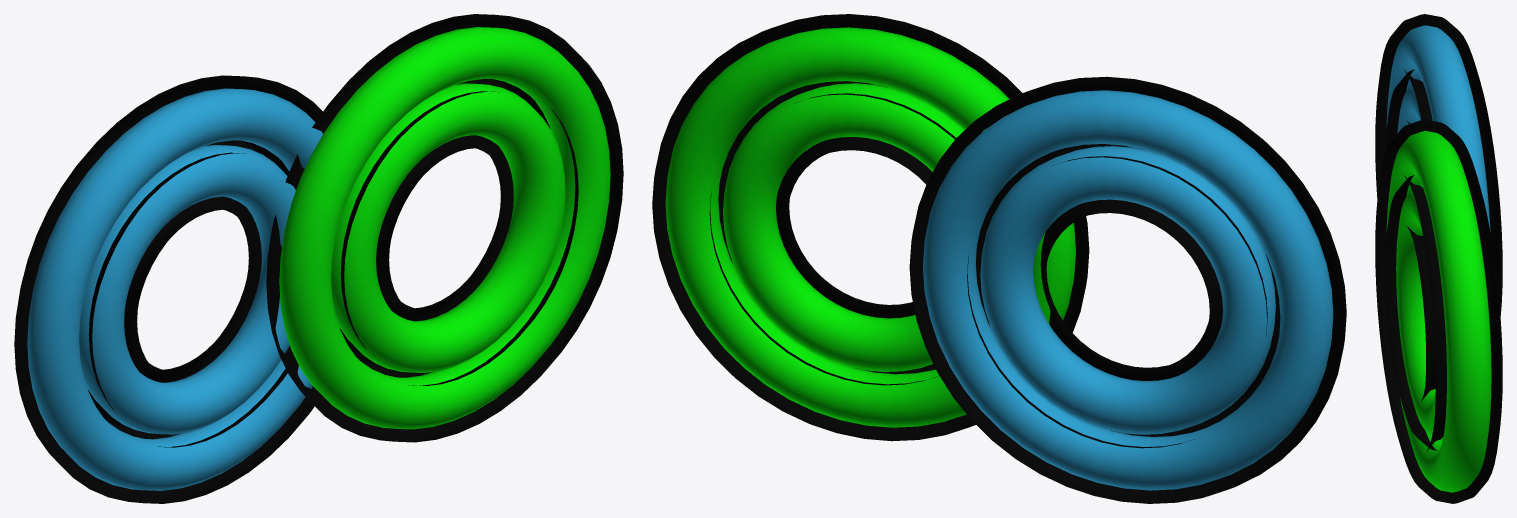
File: double_step_tutorial_02.glb
3 views of the same model, side by side, from view 1: azimuth 30°, elevation 25°; view 2: azimuth 150°, elevation 25°; view 3: azimuth 270°, elevation 25° (orthographic). The views are drawn at different scales.
Parts seen in each view (by area): view 1: Torus.445, Torus.441, Torus.446, Torus.442; view 2: Torus.441, Torus.445, Torus.442, Torus.446; view 3: Torus.445, Torus.441, Torus.446, Torus.442.
Part boxes in pixels (x1,y1,x2,y2): Torus.445: (266,14,623,442); Torus.441: (14,75,322,503); Torus.446: (331,79,578,385); Torus.442: (79,140,302,447); Torus.441: (909,76,1346,503); Torus.445: (652,14,1089,441); Torus.442: (967,146,1275,448); Torus.446: (709,83,964,385); Torus.445: (1375,119,1502,503); Torus.441: (1375,14,1502,315); Torus.446: (1385,175,1443,450); Torus.442: (1385,69,1422,153).
Bounding box in the file's own units: 5.54 × 3.4 × 1.12.
